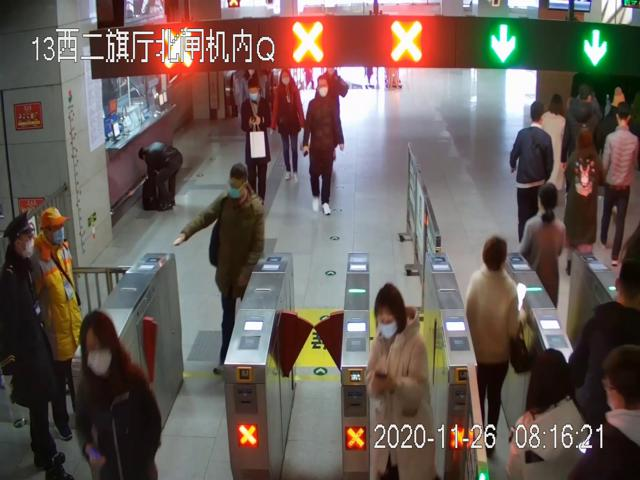person: (2, 210, 71, 480), (179, 162, 265, 373), (369, 283, 439, 479), (467, 236, 521, 458), (511, 101, 554, 251), (303, 77, 344, 214), (271, 67, 304, 187), (241, 79, 271, 206)
